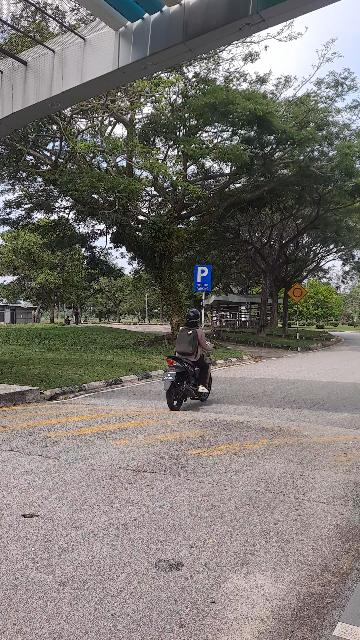motorcycle: (160, 304, 217, 415)
